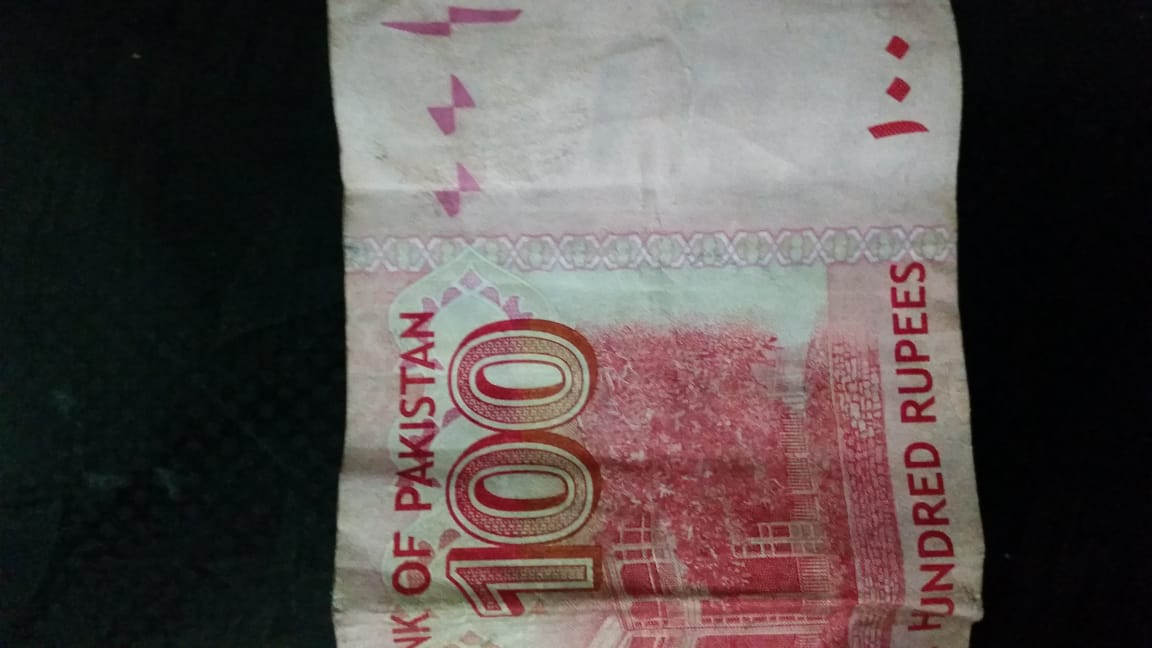100 rupee: (302, 10, 1035, 647)
